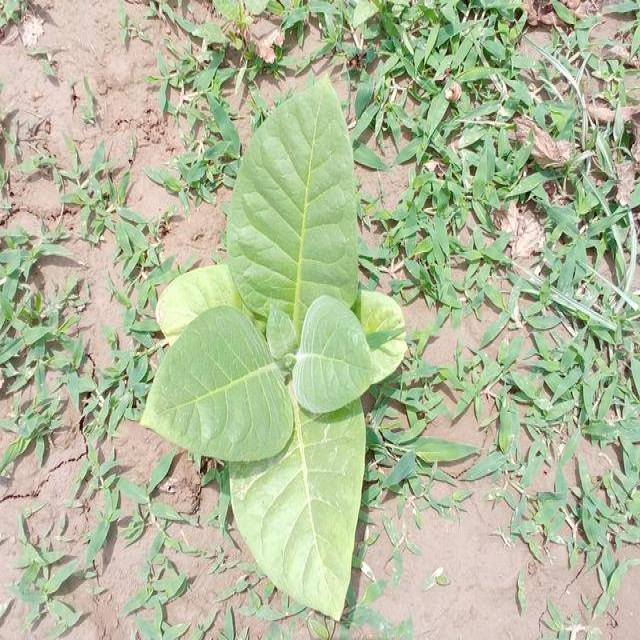crop: (172, 95, 402, 630)
